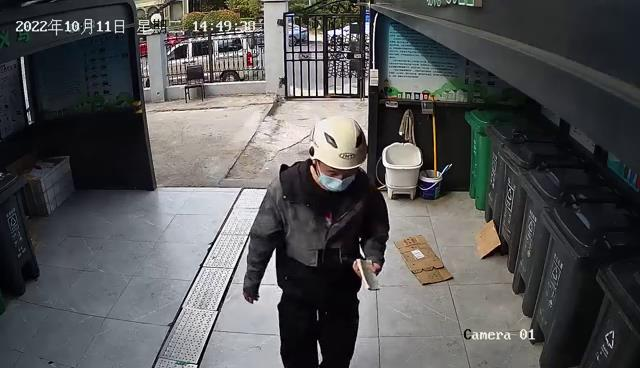person: (237, 111, 393, 368)
zhizhipin: (393, 232, 458, 288), (472, 218, 505, 264)
